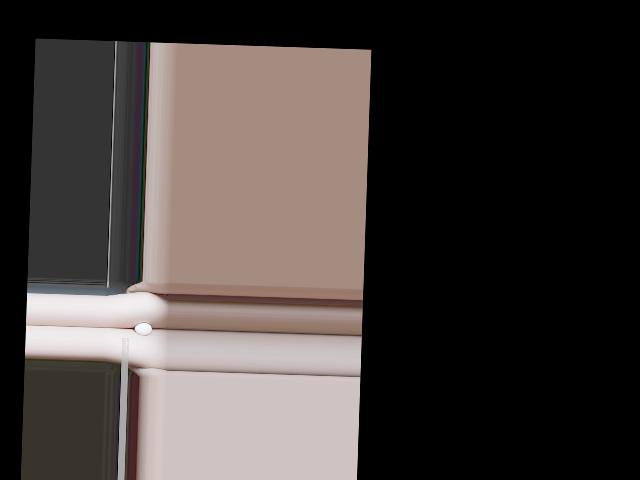egg: (134, 322, 151, 335)
